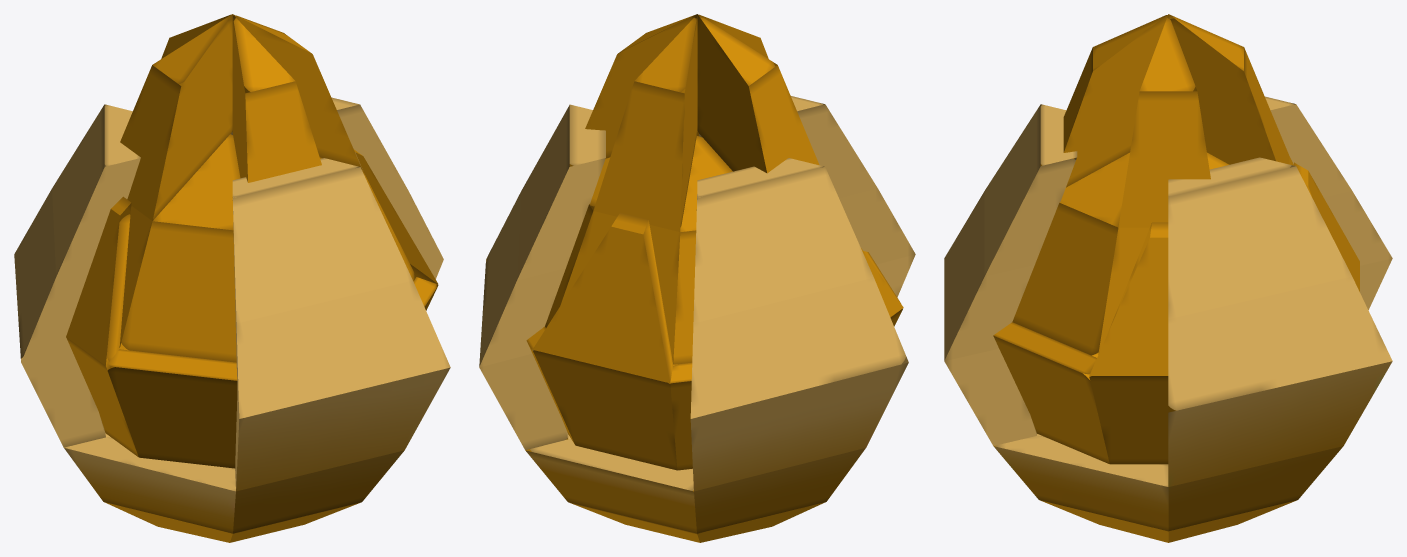
The model's file is Dragon Fruit stage 0.fbx.
The picture shows the model from 3 angles, left to right: view 1: azimuth 30°, elevation 25°; view 2: azimuth 150°, elevation 25°; view 3: azimuth 270°, elevation 25°; orthographic projection.
Visible parts, largest first — view 1: DF0; view 2: DF0; view 3: DF0.
Boxes of the visible parts, x1=… form: DF0: x1=14, y1=14, x2=450, y2=542; DF0: x1=479, y1=14, x2=915, y2=542; DF0: x1=944, y1=14, x2=1392, y2=542.
Bounding box in the file's own units: 39.48 × 44.12 × 36.4.
Materials: 1 (1 with a texture image).
